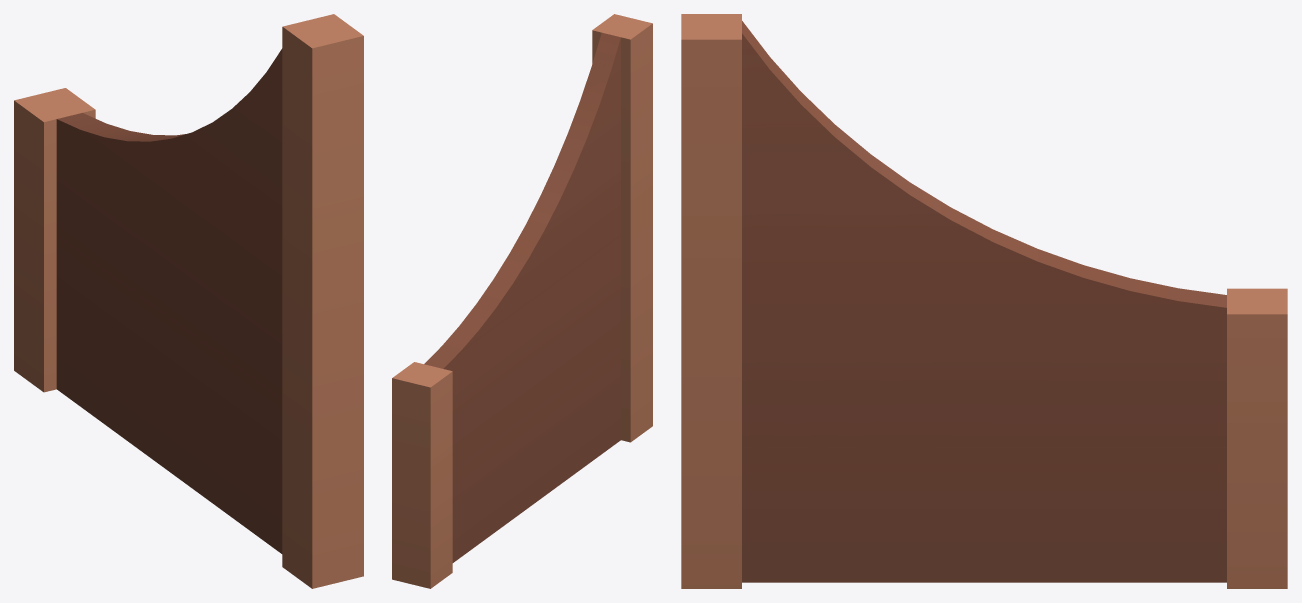
Rendered from wall-wood-slope.glb.
3 views of the same model, side by side, from view 1: azimuth 30°, elevation 25°; view 2: azimuth 150°, elevation 25°; view 3: azimuth 270°, elevation 25° (orthographic). The views are drawn at different scales.
Parts seen in each view (by area): view 1: wall-wood-slope; view 2: wall-wood-slope; view 3: wall-wood-slope.
Boxes of the visible parts, left/top/right/bottom form: wall-wood-slope: left=14, top=14, right=363, bottom=588; wall-wood-slope: left=392, top=14, right=652, bottom=588; wall-wood-slope: left=681, top=14, right=1287, bottom=588.
Size of the model in its own units: 0.1 by 1 by 1.
Materials: 1 (1 with a texture image).
